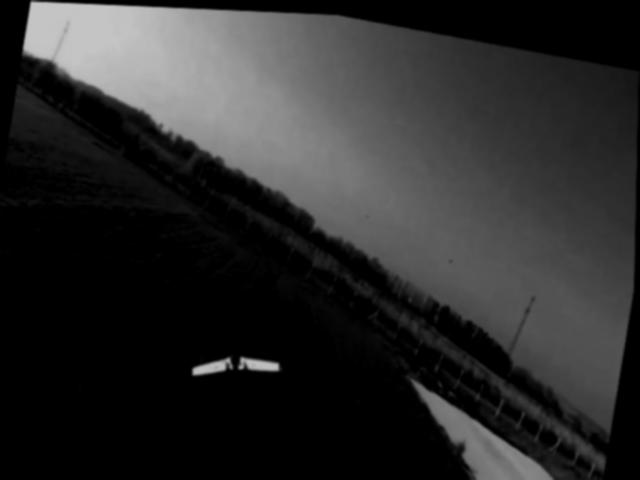hedef: (183, 332, 297, 397)
